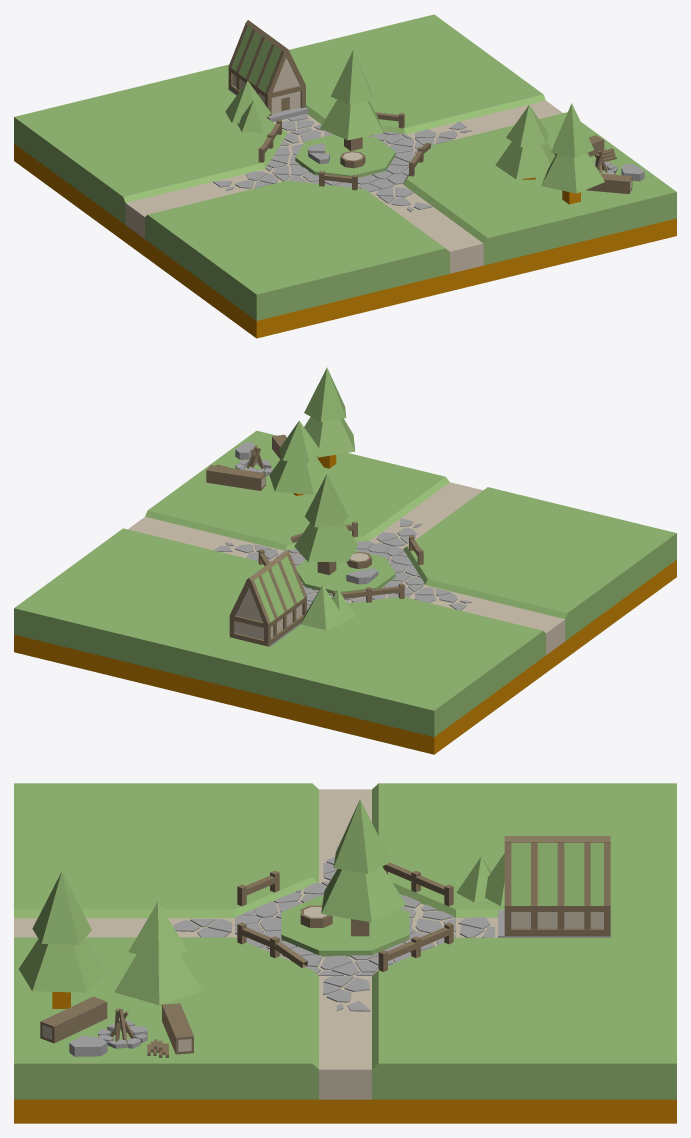
Rendered from Low poly intersection.obj.
The picture shows the model from 3 angles, top to bottom: view 1: azimuth 30°, elevation 25°; view 2: azimuth 150°, elevation 25°; view 3: azimuth 270°, elevation 25°; orthographic projection. The views are drawn at different scales.
Bounding box in the file's own units: 100 × 32.2 × 100.
